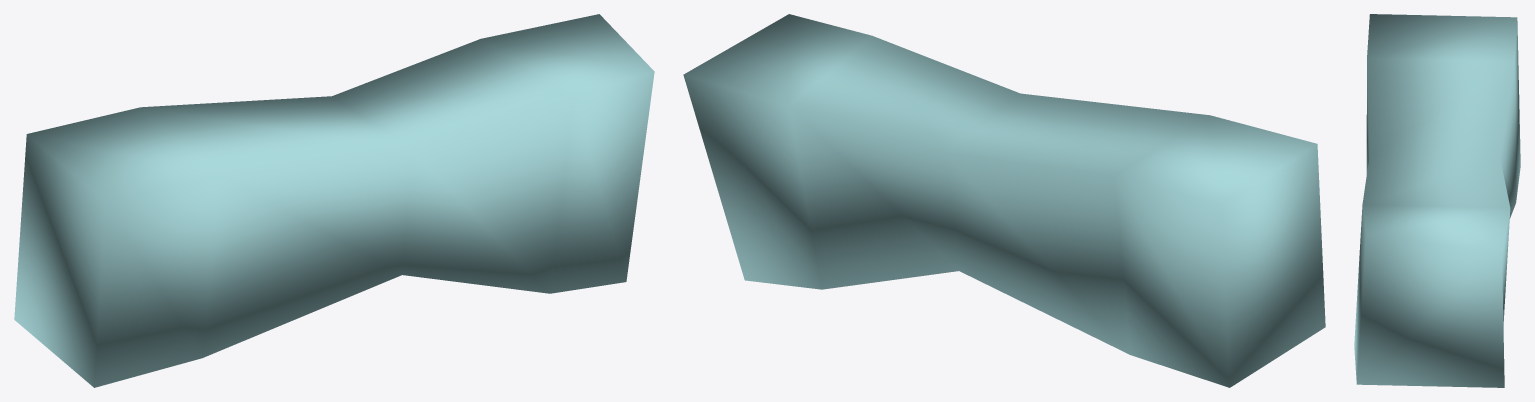
File: Skelly_f_middle.02.L.fbx
3 views of the same model, side by side, from view 1: azimuth 30°, elevation 25°; view 2: azimuth 150°, elevation 25°; view 3: azimuth 270°, elevation 25° (orthographic). The views are drawn at different scales.
Parts seen in each view (by area): view 1: Skelly_f_middle.02.L; view 2: Skelly_f_middle.02.L; view 3: Skelly_f_middle.02.L.
Boxes of the visible parts, <box> form: Skelly_f_middle.02.L: <box>14,14,654,387</box>; Skelly_f_middle.02.L: <box>683,14,1325,387</box>; Skelly_f_middle.02.L: <box>1354,14,1520,387</box>.
Size of the model in its own units: 3.65 by 1.23 by 1.09.
